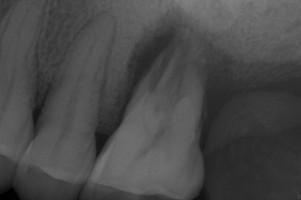Dental Caries: (126, 7, 300, 149)
